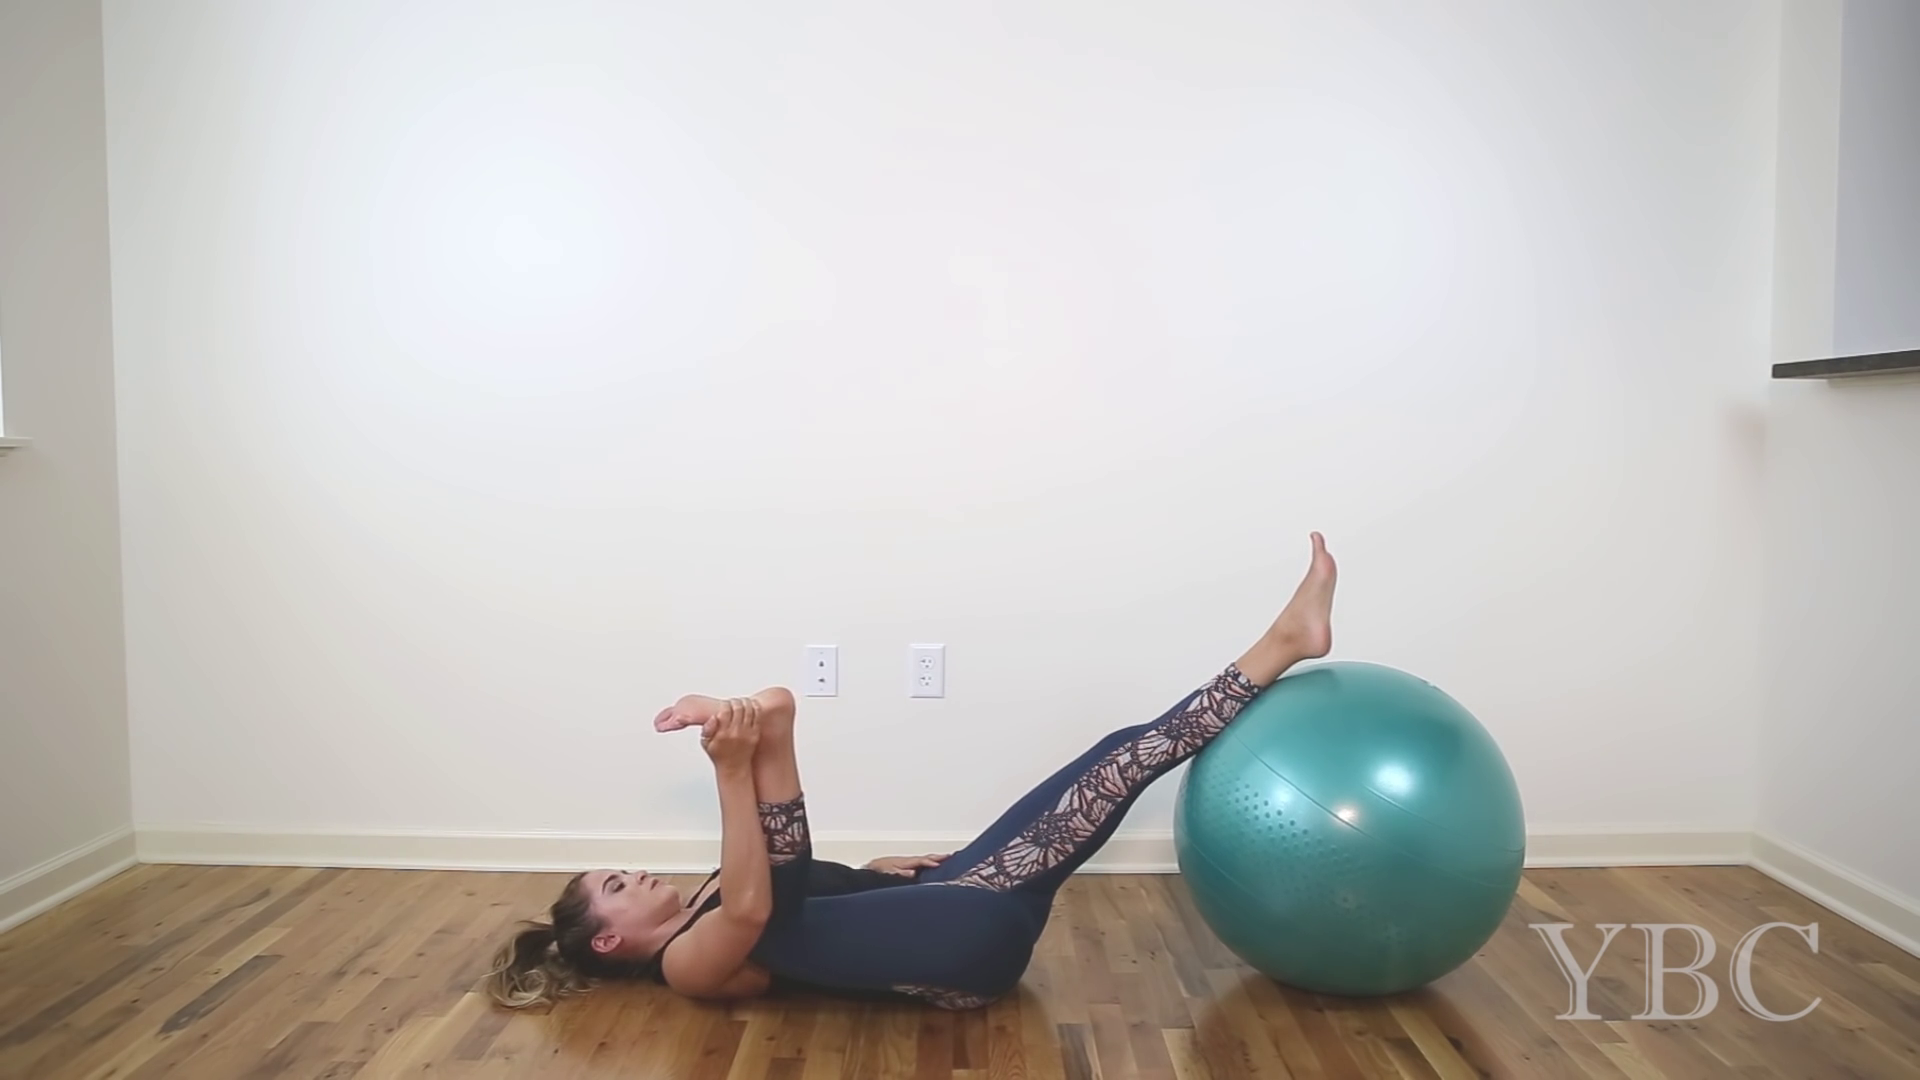yogaball: (1164, 649, 1536, 1013)
